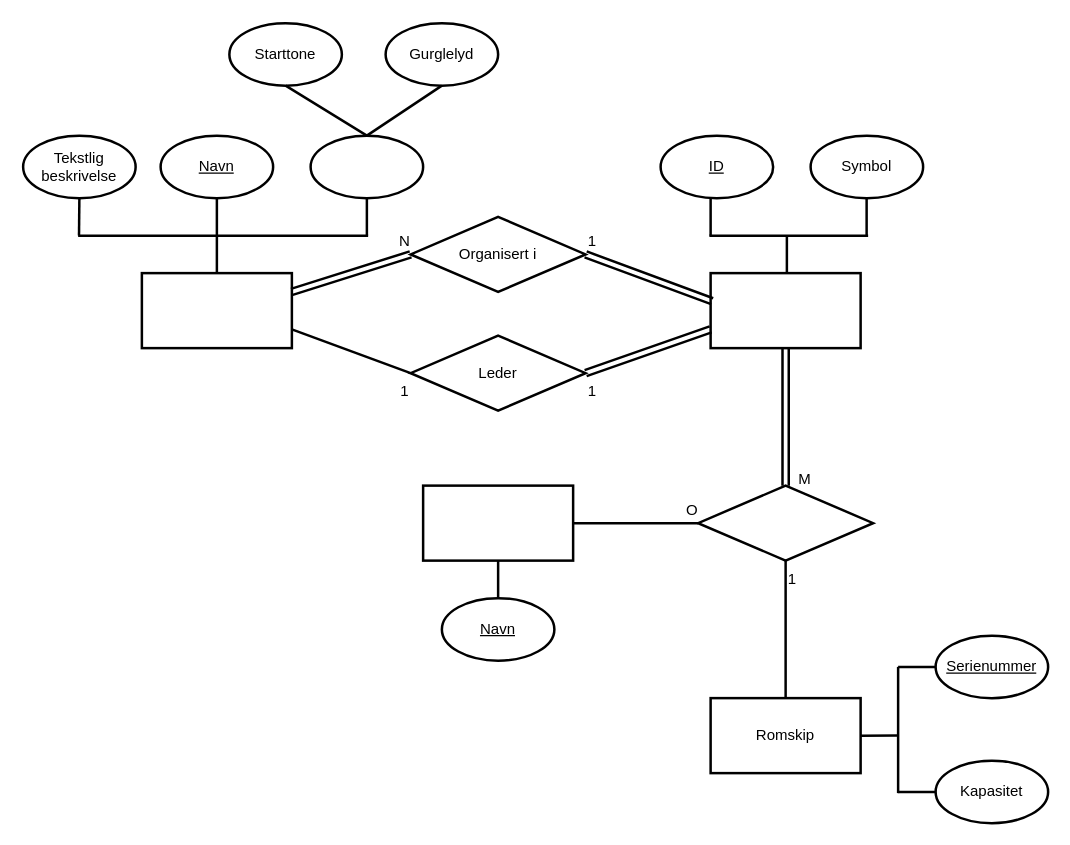
This 1070x845 diagram has some shape labels left out. Here are the shapes that lost their labels. From the top down, the centre of each, then its label:
point 366,166: Lyd
point 216,310: Romvesen
point 785,310: Gruppe
point 497,522: Funksjon
point 785,522: Utfører
